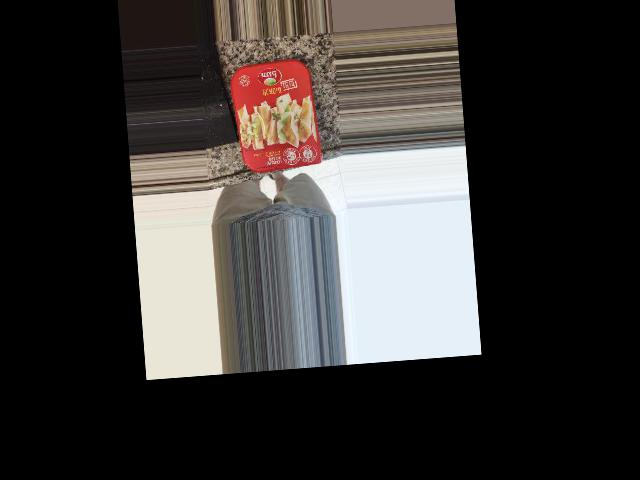cheese: (218, 81, 314, 197)
